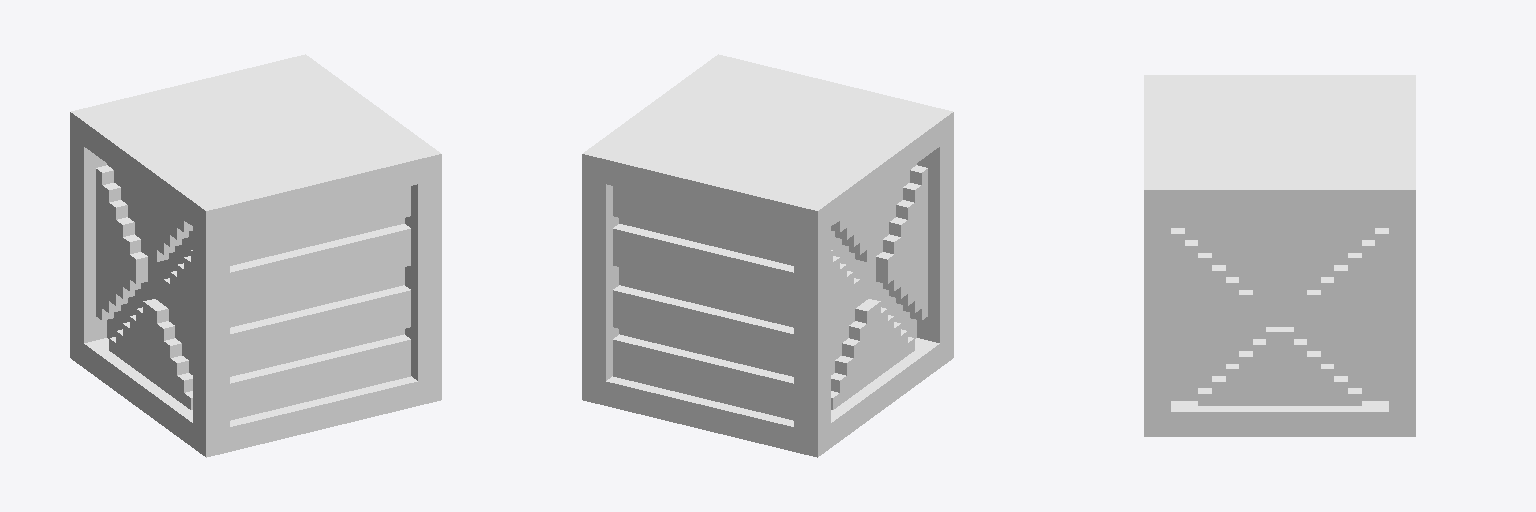
File: caja2_entera.obj
3 views of the same model, side by side, from view 1: azimuth 30°, elevation 25°; view 2: azimuth 150°, elevation 25°; view 3: azimuth 270°, elevation 25° (orthographic).
Visible parts, largest first — view 1: object 1; view 2: object 1; view 3: object 1.
Boxes of the visible parts, x1=… form: object 1: x1=70, y1=54, x2=441, y2=457; object 1: x1=582, y1=54, x2=953, y2=457; object 1: x1=1144, y1=75, x2=1415, y2=436.
Bounding box in the file's own units: 2 × 2 × 2.